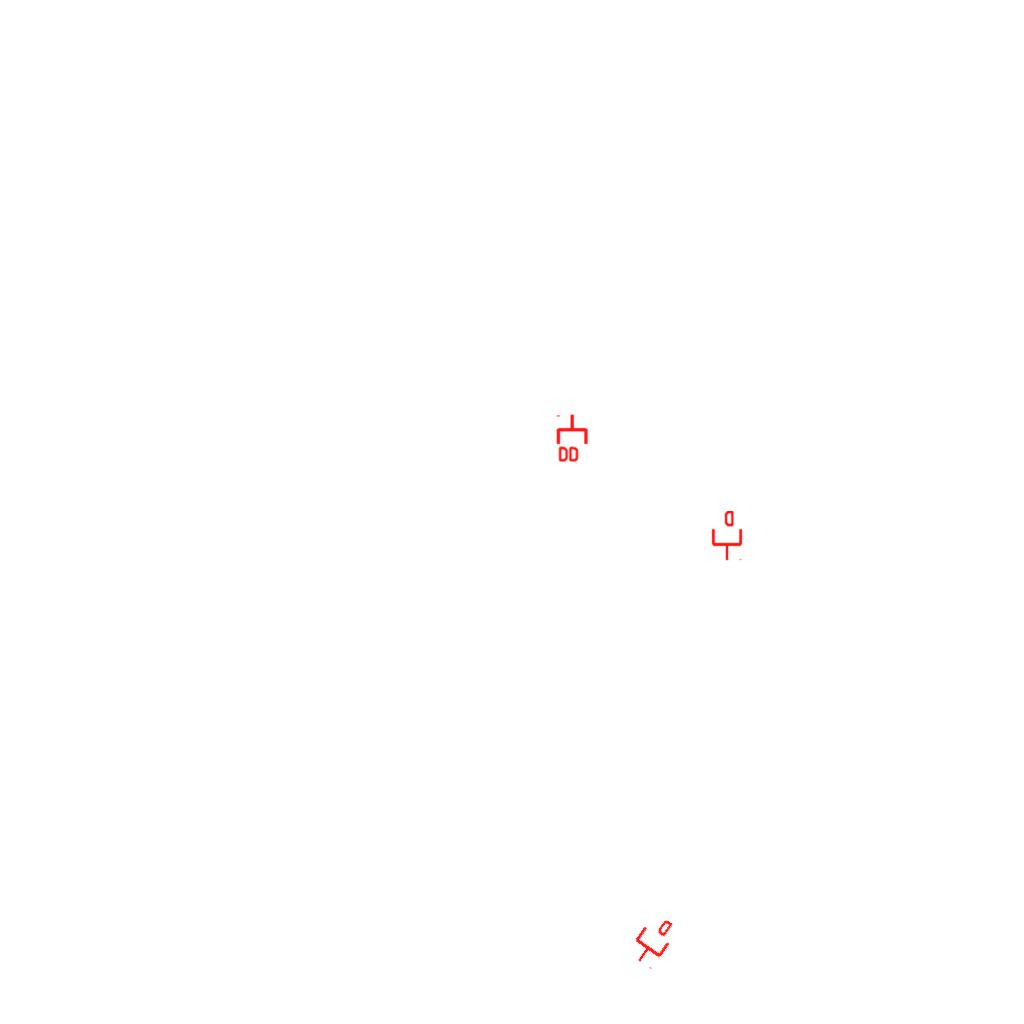Datenanschluss_einfach: (624, 910, 682, 972), (710, 511, 744, 561)
Datenanschluss_zweifach: (556, 413, 590, 464)
